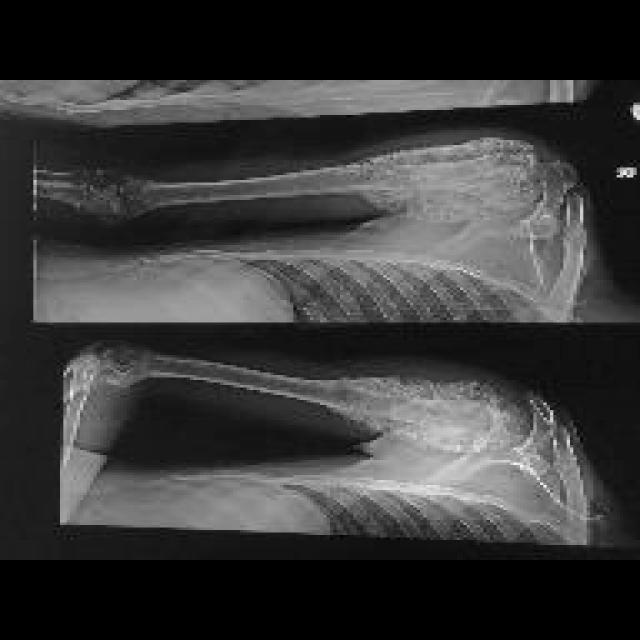bone-cancer: (320, 380, 553, 453), (345, 138, 544, 219)
